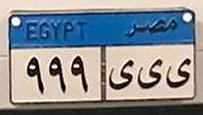9: (68, 54, 93, 94), (23, 53, 45, 96), (47, 55, 67, 94)
yaa: (164, 56, 191, 91), (137, 56, 163, 92), (108, 60, 134, 93)
